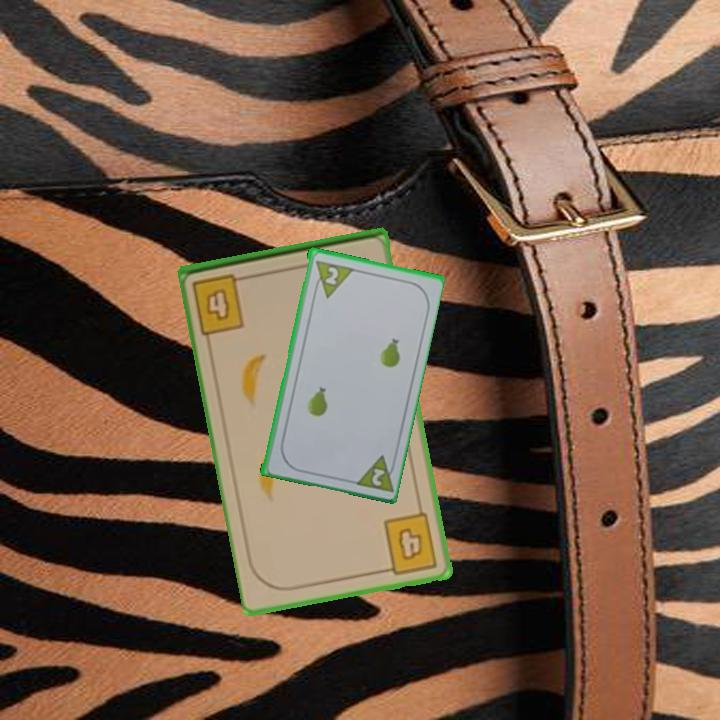2p: (350, 451, 399, 495), (321, 263, 341, 288)
4b: (189, 270, 254, 337), (379, 509, 441, 577)
